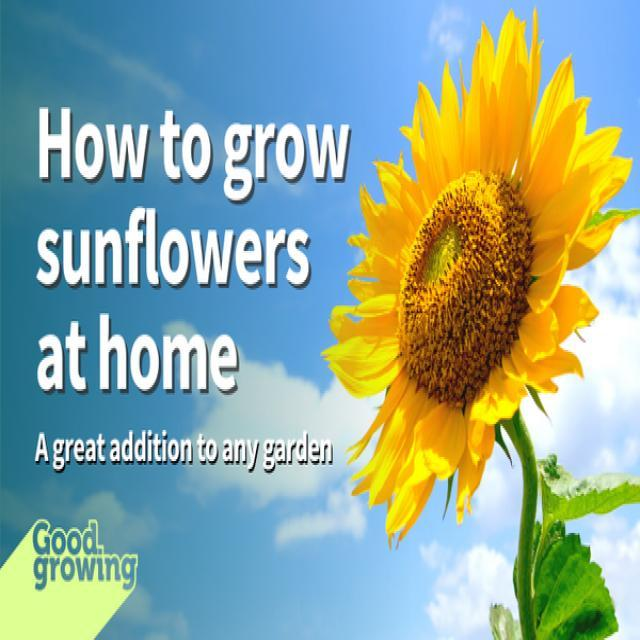sunflower: (320, 6, 637, 548)
